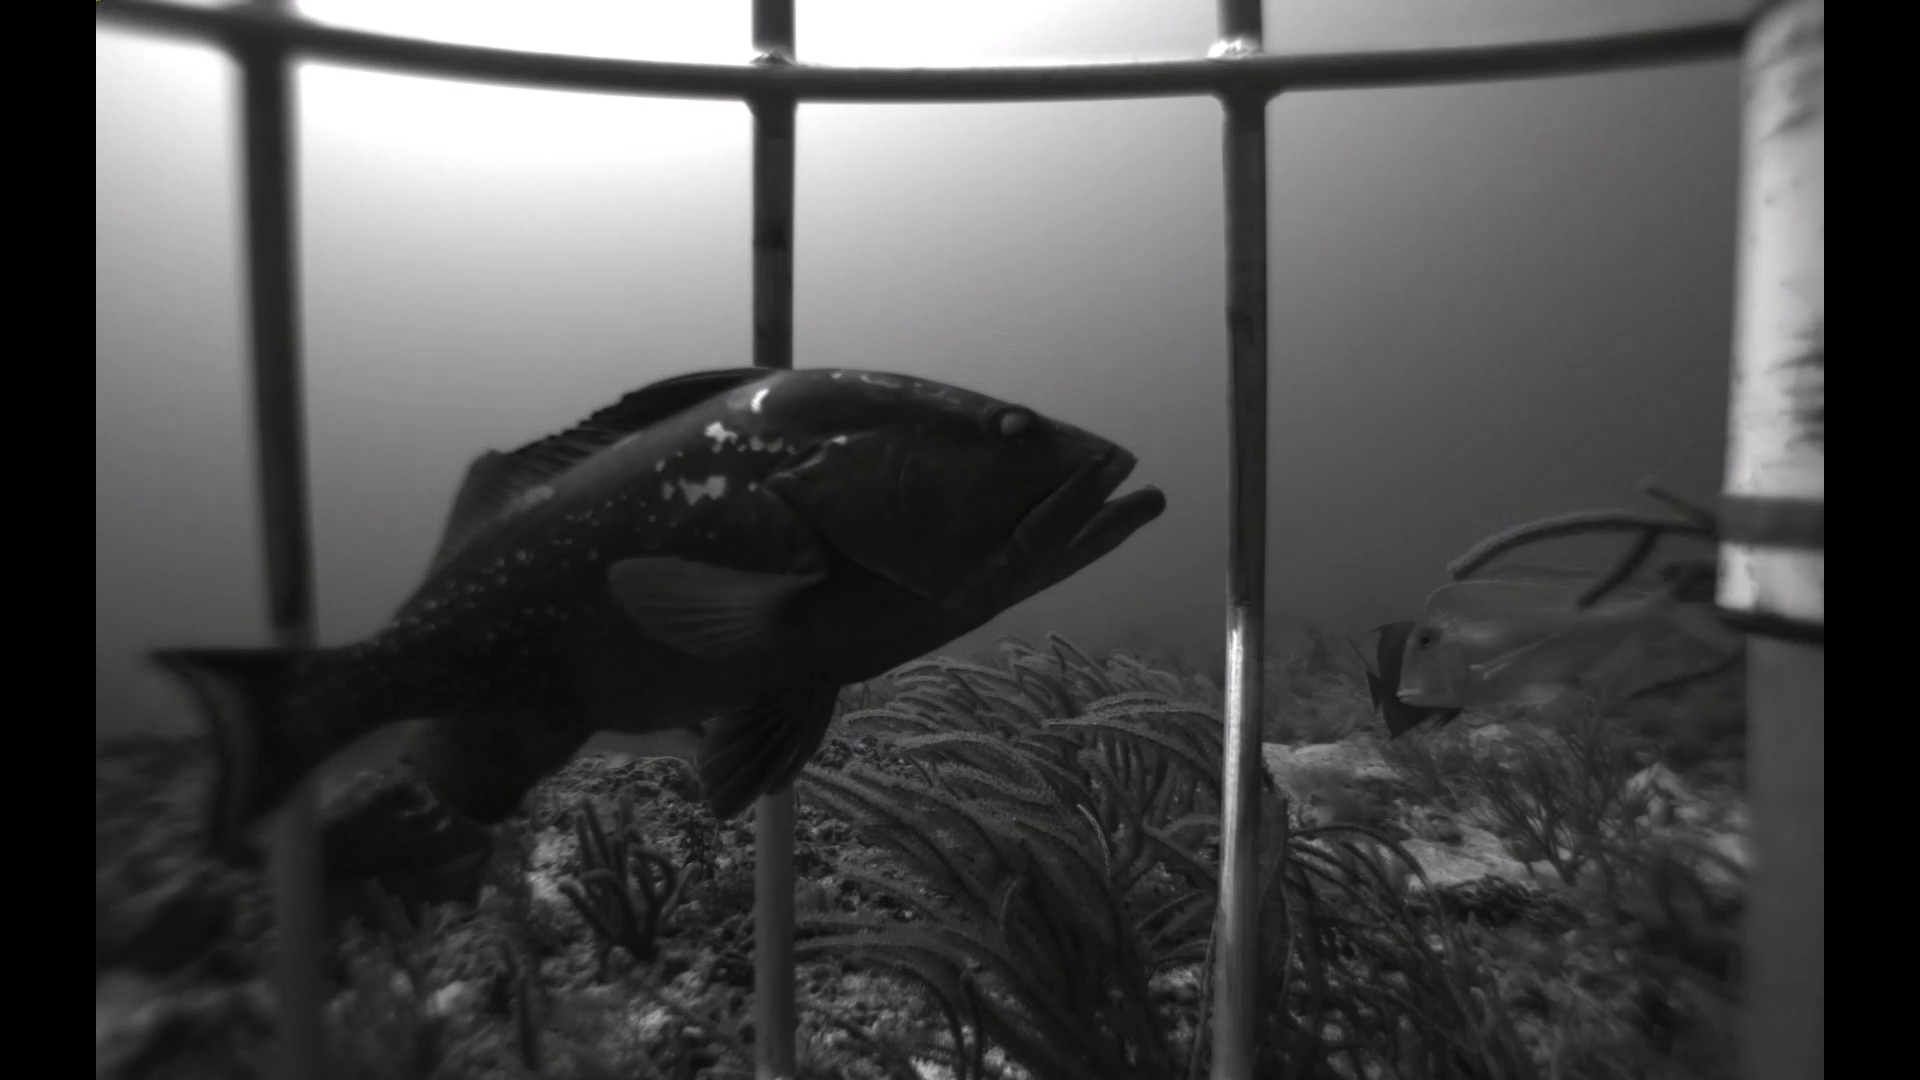CALAMUSNODOSUS-170210608: (1377, 538, 1717, 729)
EPINEPHELUSMORIO-170021211: (135, 324, 1170, 897), (310, 731, 525, 927)
LUTJANUSGRISEUS-170151109: (556, 712, 709, 773)
POMACANTHUSARCUATUS-170290201: (1340, 612, 1476, 738)
